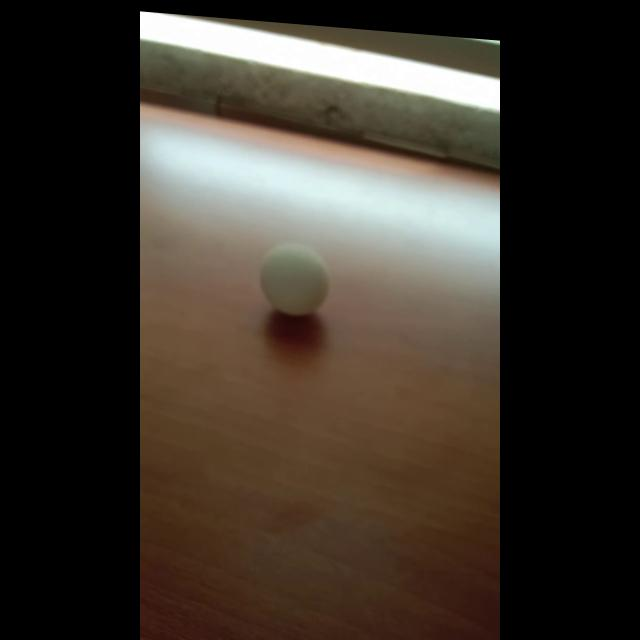white ball: (258, 238, 330, 320)
